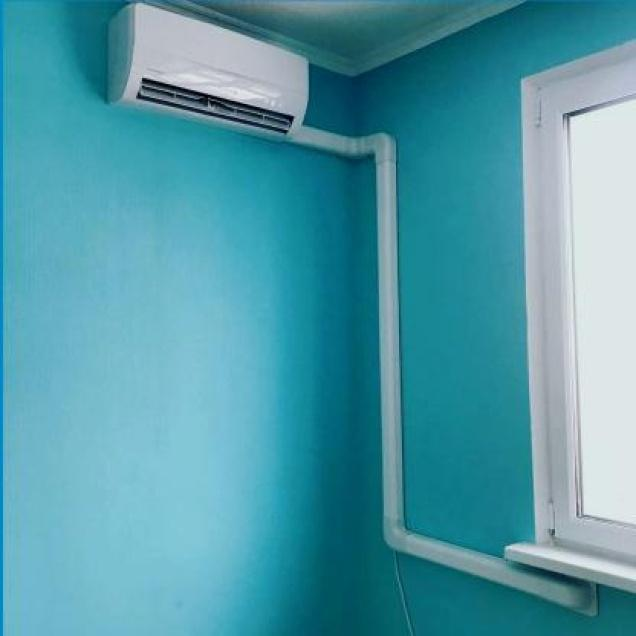AC: (104, 2, 309, 145)
